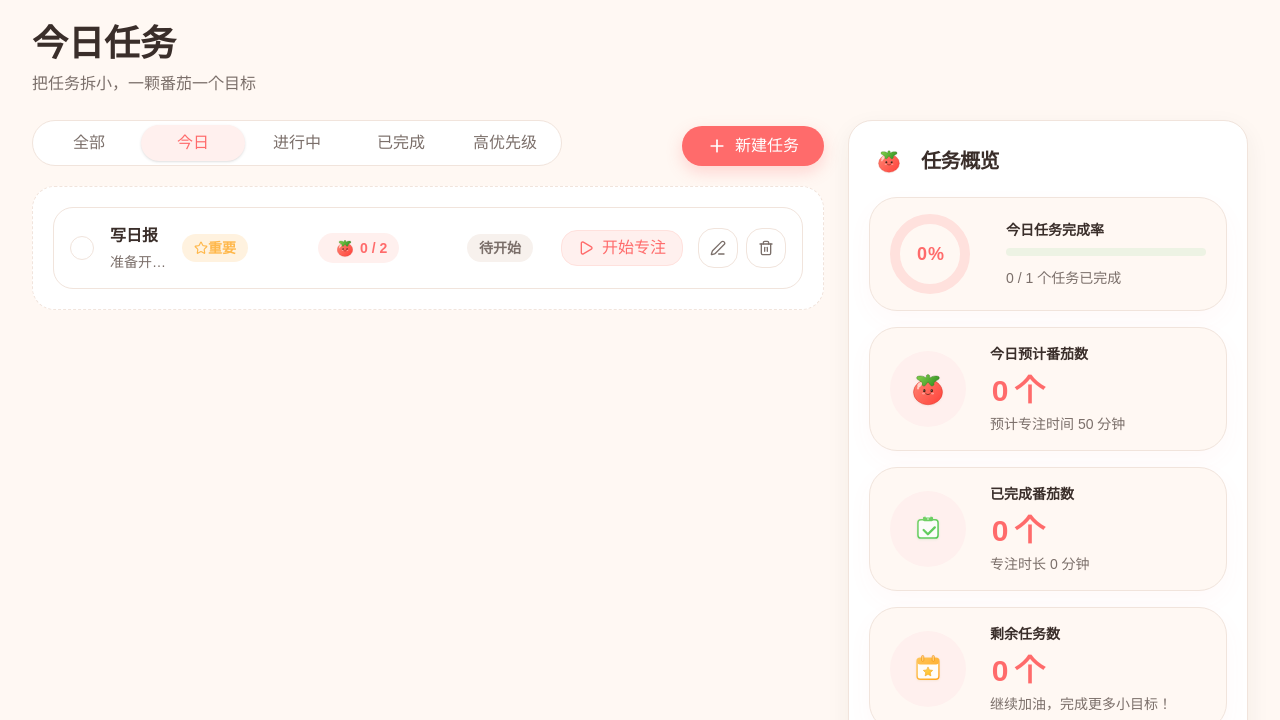
Test: TaskManagement › opens the task drawer in edit mode from a task card
Step 1. Click the button named "编辑任务：写日报" → (718, 248), box [698,228,738,268]
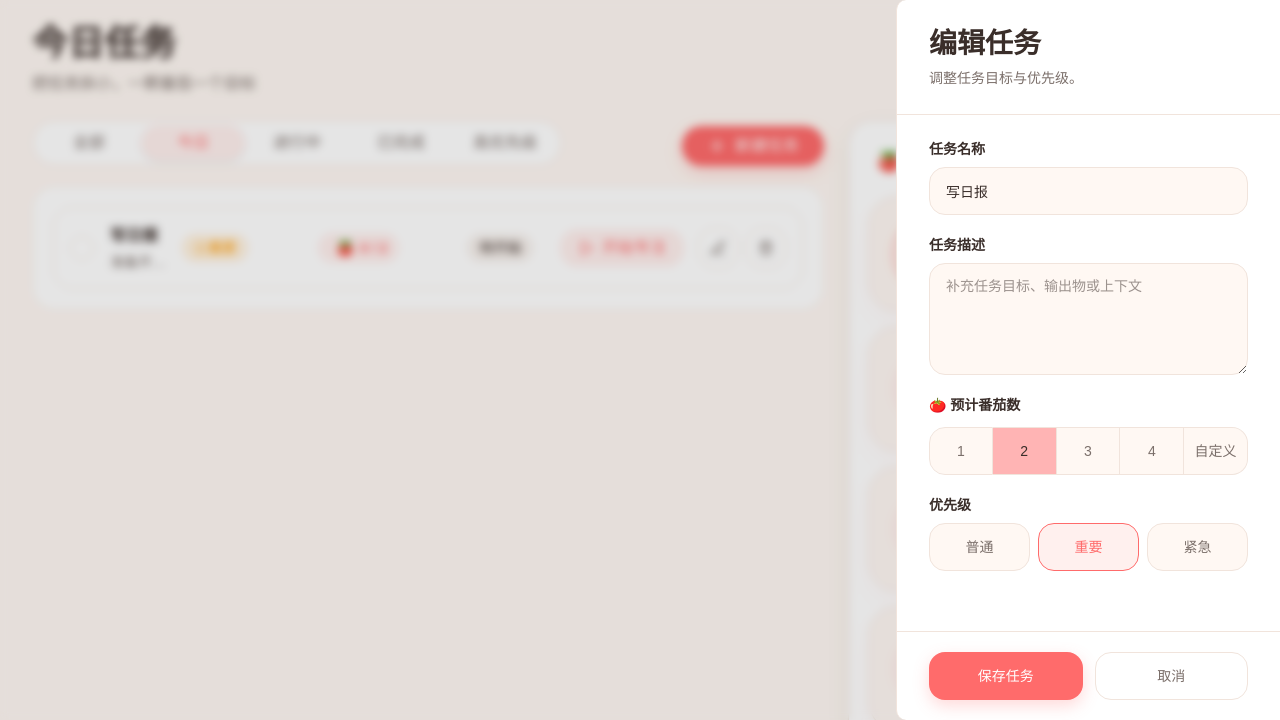
Now the heading "编辑任务" is shown, box [929,28,1041,59]
Now the field showing "写日报" is shown, box [929,167,1248,215]
